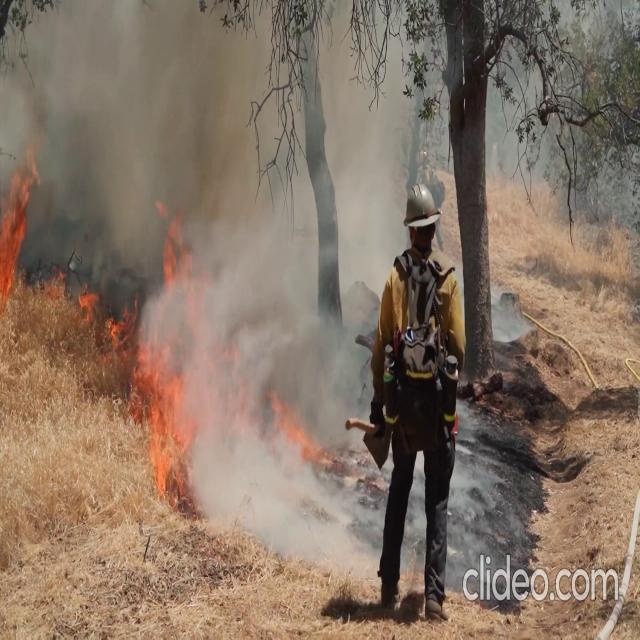Fire: (0, 150, 40, 314)
Smoke: (28, 7, 392, 533)
